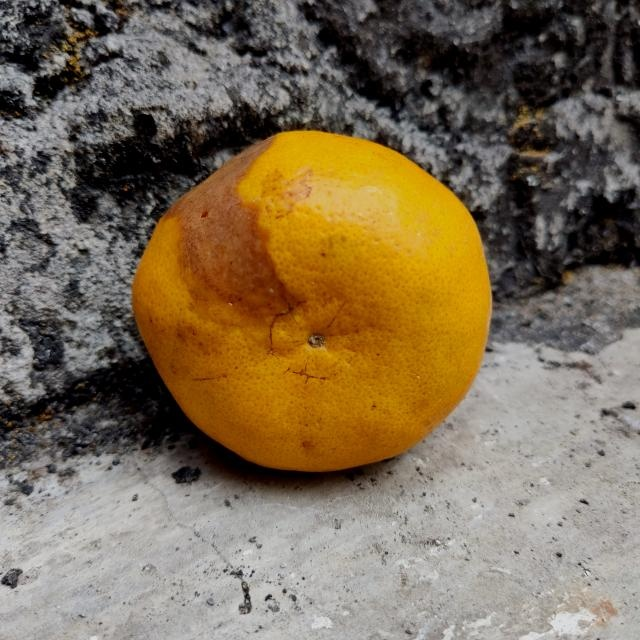agrume: (130, 126, 494, 472)
